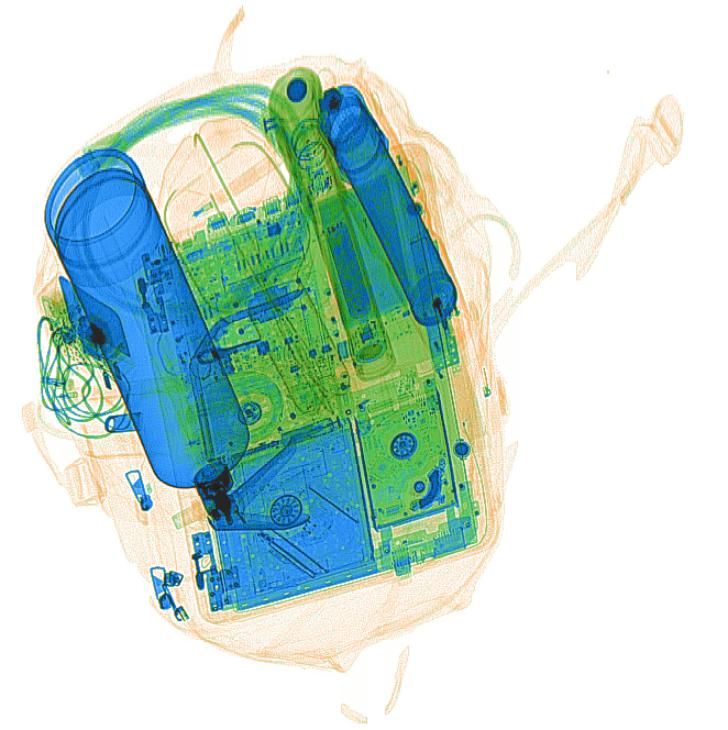battery: (320, 222, 371, 318)
